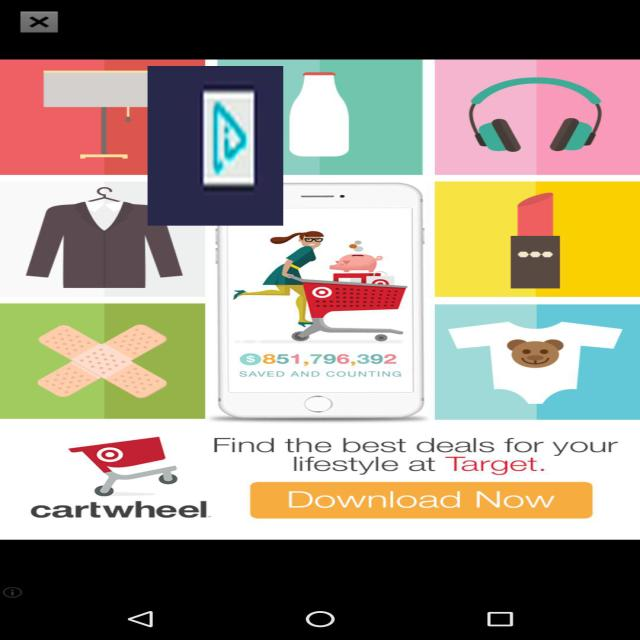sneaking: (148, 66, 283, 226)
